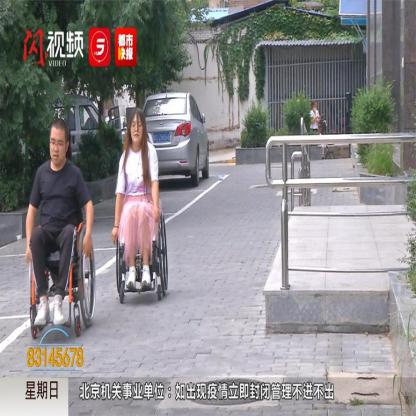wheelchair: (27, 116, 96, 343), (115, 103, 169, 302)
